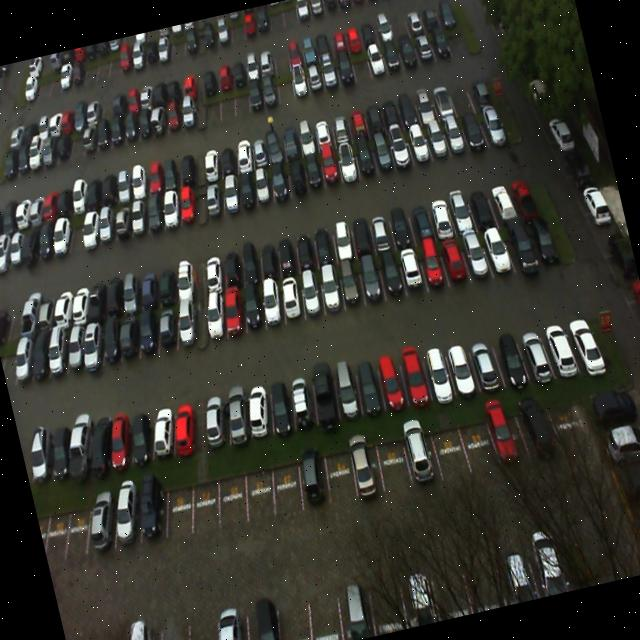empty: (154, 474, 202, 542), (179, 471, 226, 535), (264, 460, 310, 520), (236, 463, 282, 521), (208, 467, 253, 525), (53, 502, 98, 558), (322, 447, 361, 508)
occupied: (126, 484, 177, 550), (75, 496, 124, 558), (102, 491, 150, 554), (514, 320, 556, 386), (560, 306, 604, 369), (238, 380, 282, 442), (345, 442, 388, 504), (292, 450, 336, 510), (77, 415, 119, 475), (491, 325, 530, 388), (108, 307, 149, 365), (538, 314, 576, 376), (214, 284, 253, 344), (444, 340, 483, 400), (468, 333, 507, 392), (97, 414, 138, 470), (120, 409, 160, 466), (126, 300, 164, 359), (284, 374, 322, 432), (261, 378, 299, 435), (328, 364, 364, 424), (374, 352, 410, 412), (253, 274, 290, 332), (146, 302, 184, 358), (142, 404, 180, 459), (396, 347, 432, 405), (421, 344, 457, 402), (522, 212, 560, 266), (164, 404, 202, 458), (218, 387, 255, 442), (92, 311, 128, 367), (166, 296, 202, 352), (305, 370, 340, 427), (350, 360, 386, 414), (198, 290, 230, 350), (478, 224, 514, 277), (465, 178, 500, 232), (234, 283, 268, 338), (424, 187, 458, 240), (196, 396, 232, 446), (296, 270, 328, 323), (460, 232, 492, 284), (113, 269, 149, 315), (275, 275, 306, 328), (154, 184, 188, 232), (508, 172, 542, 220), (97, 274, 133, 319), (502, 223, 535, 272), (407, 195, 438, 247), (487, 175, 519, 225), (131, 266, 165, 313), (396, 245, 427, 296), (315, 268, 346, 318), (356, 258, 387, 308), (122, 193, 154, 241), (438, 238, 470, 286), (386, 197, 416, 248), (376, 252, 406, 303), (446, 186, 477, 235), (419, 243, 449, 293), (106, 196, 138, 242), (364, 207, 396, 253), (152, 263, 186, 306), (140, 189, 170, 237), (476, 102, 508, 146), (173, 259, 205, 303), (270, 232, 302, 276), (172, 183, 203, 228), (198, 174, 228, 220), (213, 249, 244, 293), (327, 217, 356, 264), (338, 262, 366, 310), (197, 254, 228, 296), (291, 228, 320, 272), (235, 241, 265, 283), (308, 224, 337, 267), (252, 239, 282, 280), (348, 215, 376, 258), (444, 112, 471, 156), (266, 162, 294, 204), (334, 142, 362, 184), (234, 169, 260, 214), (250, 164, 276, 208), (425, 120, 453, 160), (460, 110, 488, 150), (218, 172, 244, 215), (354, 138, 379, 180), (389, 130, 415, 169), (300, 154, 325, 194), (371, 134, 396, 174), (407, 125, 432, 162), (284, 159, 308, 197), (318, 148, 342, 186)
